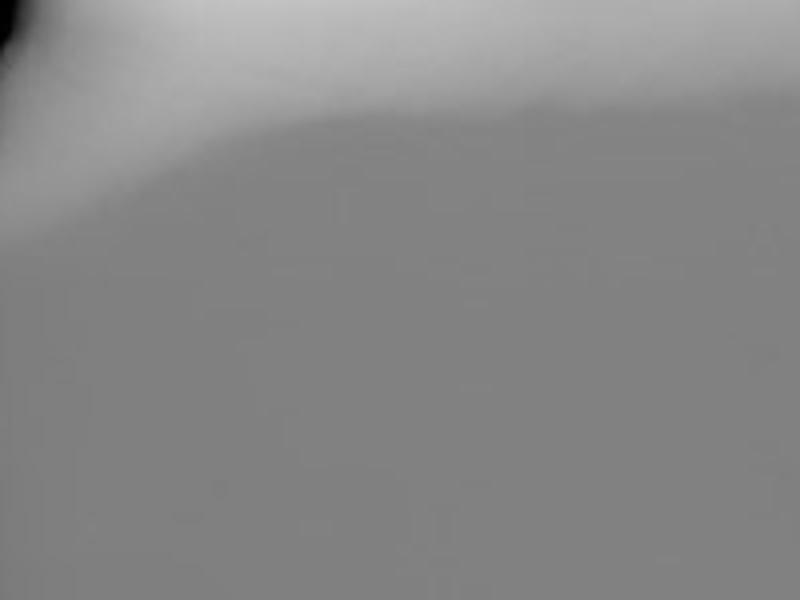defect: (1, 1, 25, 40)
